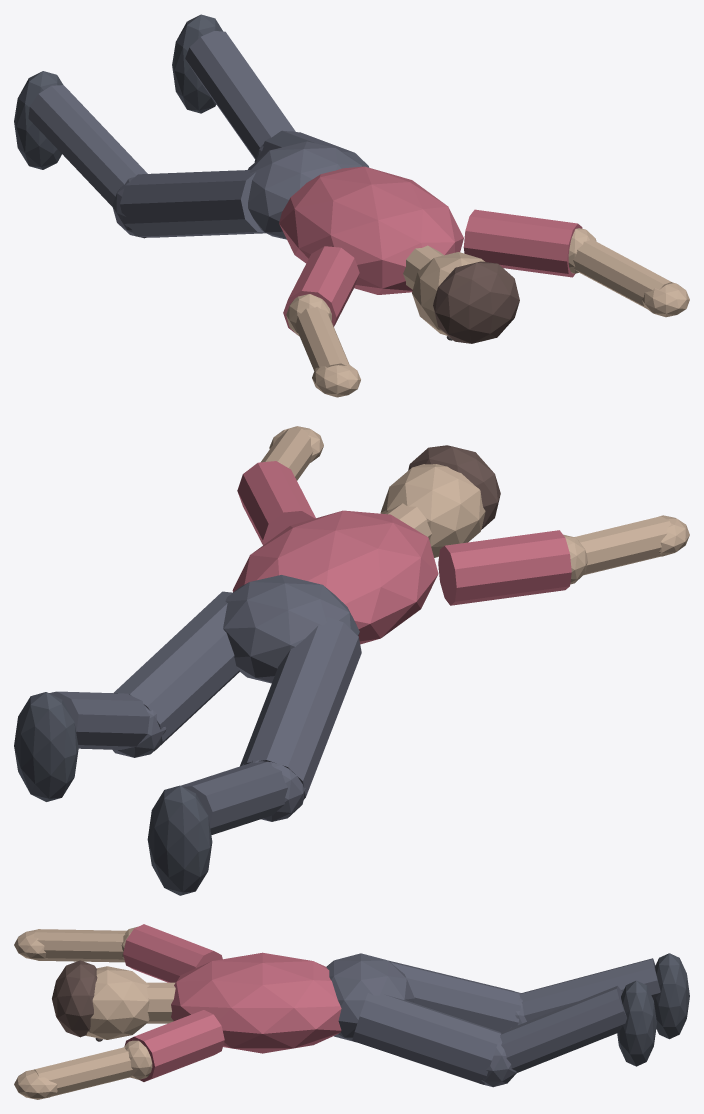
3 views of the same model, one above another, from view 1: azimuth 30°, elevation 25°; view 2: azimuth 150°, elevation 25°; view 3: azimuth 270°, elevation 25° (orthographic). The views are drawn at different scales.
Visible parts, largest first — view 1: world; view 2: world; view 3: world.
Part boxes in pixels (x1,y1,x2,y2): world: [14, 14, 689, 397]; world: [14, 426, 689, 895]; world: [14, 924, 689, 1099].
Size of the model in its own units: 1.17 by 0.4125 by 2.13.
